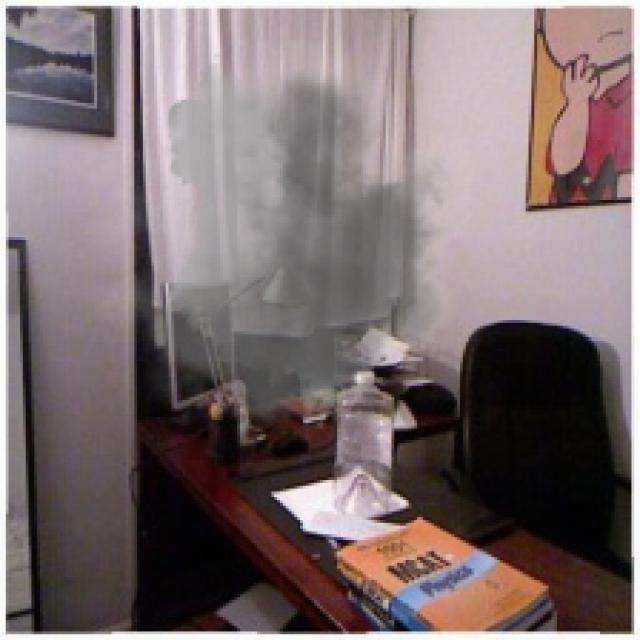Smoke: (82, 37, 494, 443)
